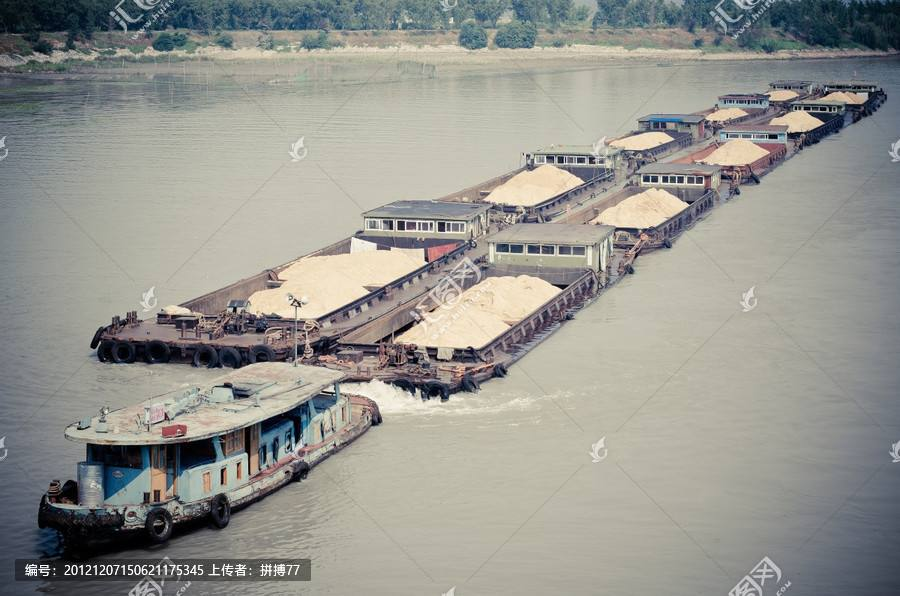boat: (98, 216, 641, 387), (38, 367, 394, 540), (448, 144, 685, 245), (606, 107, 770, 182), (700, 81, 819, 153), (745, 69, 884, 118)
